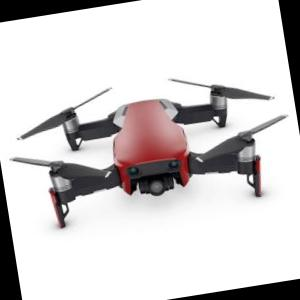drone: (1, 57, 292, 242)
